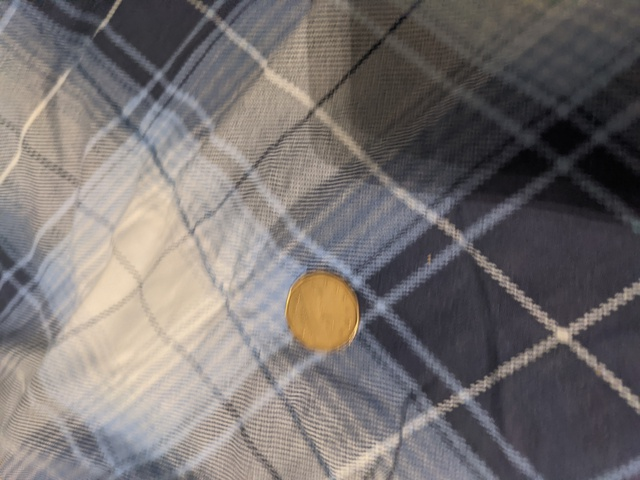loonie: (274, 260, 362, 352)
